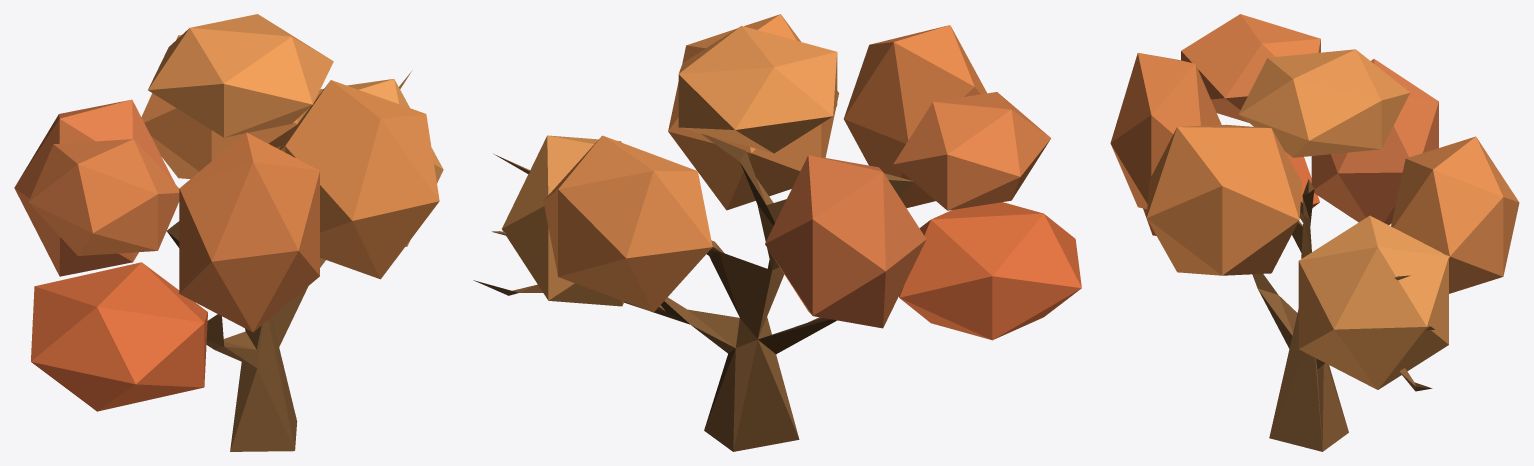
File: cherry_3_autumn_far.glb
The picture shows the model from 3 angles, left to right: view 1: azimuth 30°, elevation 25°; view 2: azimuth 150°, elevation 25°; view 3: azimuth 270°, elevation 25°; orthographic projection. The views are drawn at different scales.
Parts seen in each view (by area): view 1: cherry_3_autumn_far; view 2: cherry_3_autumn_far; view 3: cherry_3_autumn_far.
Part boxes in pixels (x1,y1,x2,y2): cherry_3_autumn_far: [14, 14, 443, 451]; cherry_3_autumn_far: [473, 14, 1081, 451]; cherry_3_autumn_far: [1110, 14, 1519, 451].
Size of the model in its own units: 9.26 by 7.16 by 7.3.
